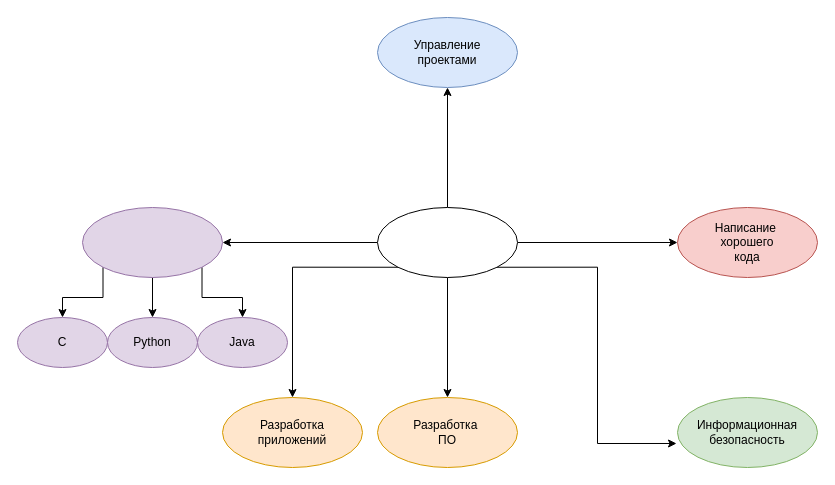
Some shapes in this 835 by 485 pixel diagram are drawn without their labels. The shapes that lost their labels are listed below. From the top down, each one's box as (x1, y1, x2, y2) in pixels, then its label:
(82, 206, 222, 278): Изучение языков
(376, 206, 518, 278): Программная инженерия
